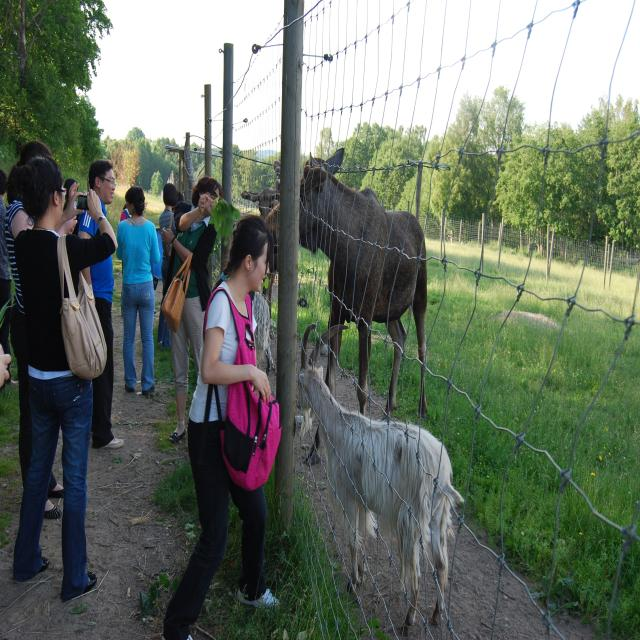body: (160, 212, 284, 640), (7, 152, 119, 607), (4, 141, 80, 522), (160, 176, 223, 445), (74, 157, 128, 452), (113, 183, 162, 400), (157, 182, 179, 352), (0, 168, 13, 385), (119, 202, 132, 318), (62, 176, 87, 236), (0, 336, 13, 386), (171, 191, 184, 214)
